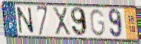7: (36, 5, 50, 37)
9: (70, 6, 89, 38), (107, 7, 124, 40)
G: (89, 8, 106, 38)
N: (16, 6, 36, 35)
X: (51, 7, 72, 37)
